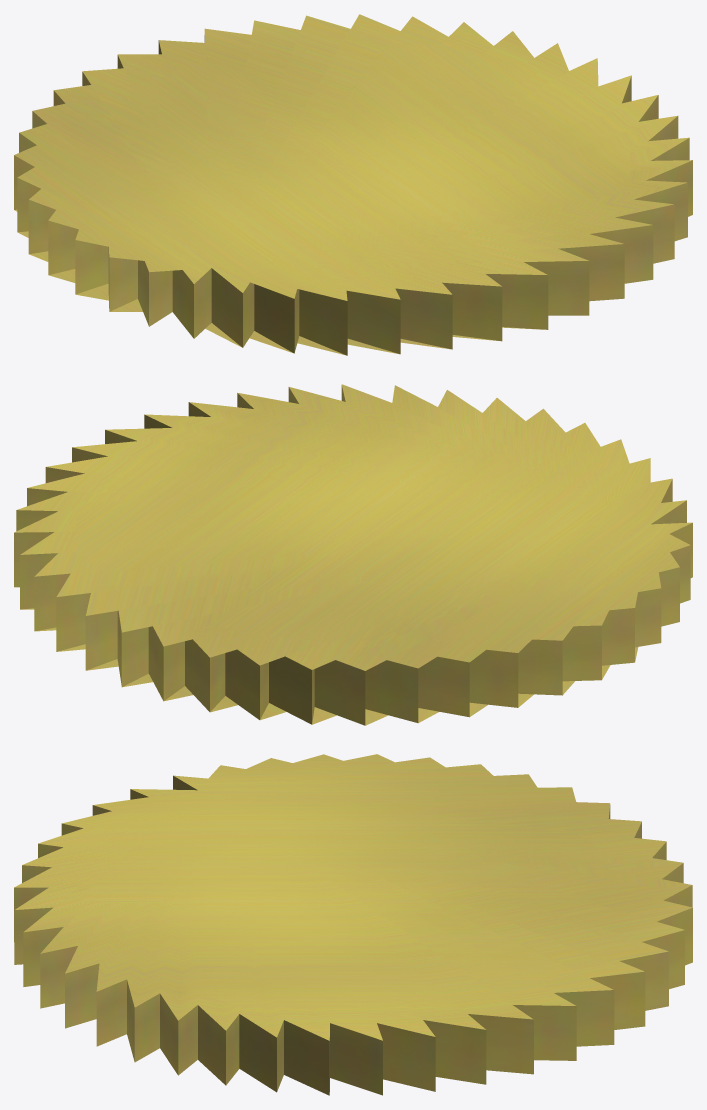
File: ClockAngle5Spoke040.fbx
3 renders of one model, top to bottom at view 1: azimuth 30°, elevation 25°; view 2: azimuth 150°, elevation 25°; view 3: azimuth 270°, elevation 25°, orthographic.
Visible parts, largest first — view 1: ClockAngle5Spoke040; view 2: ClockAngle5Spoke040; view 3: ClockAngle5Spoke040.
Part boxes in pixels (<box>): ClockAngle5Spoke040: <box>14,14,692,355</box>; ClockAngle5Spoke040: <box>14,384,692,725</box>; ClockAngle5Spoke040: <box>14,754,692,1095</box>.
Bounding box in the file's own units: 221 × 19.69 × 221.
